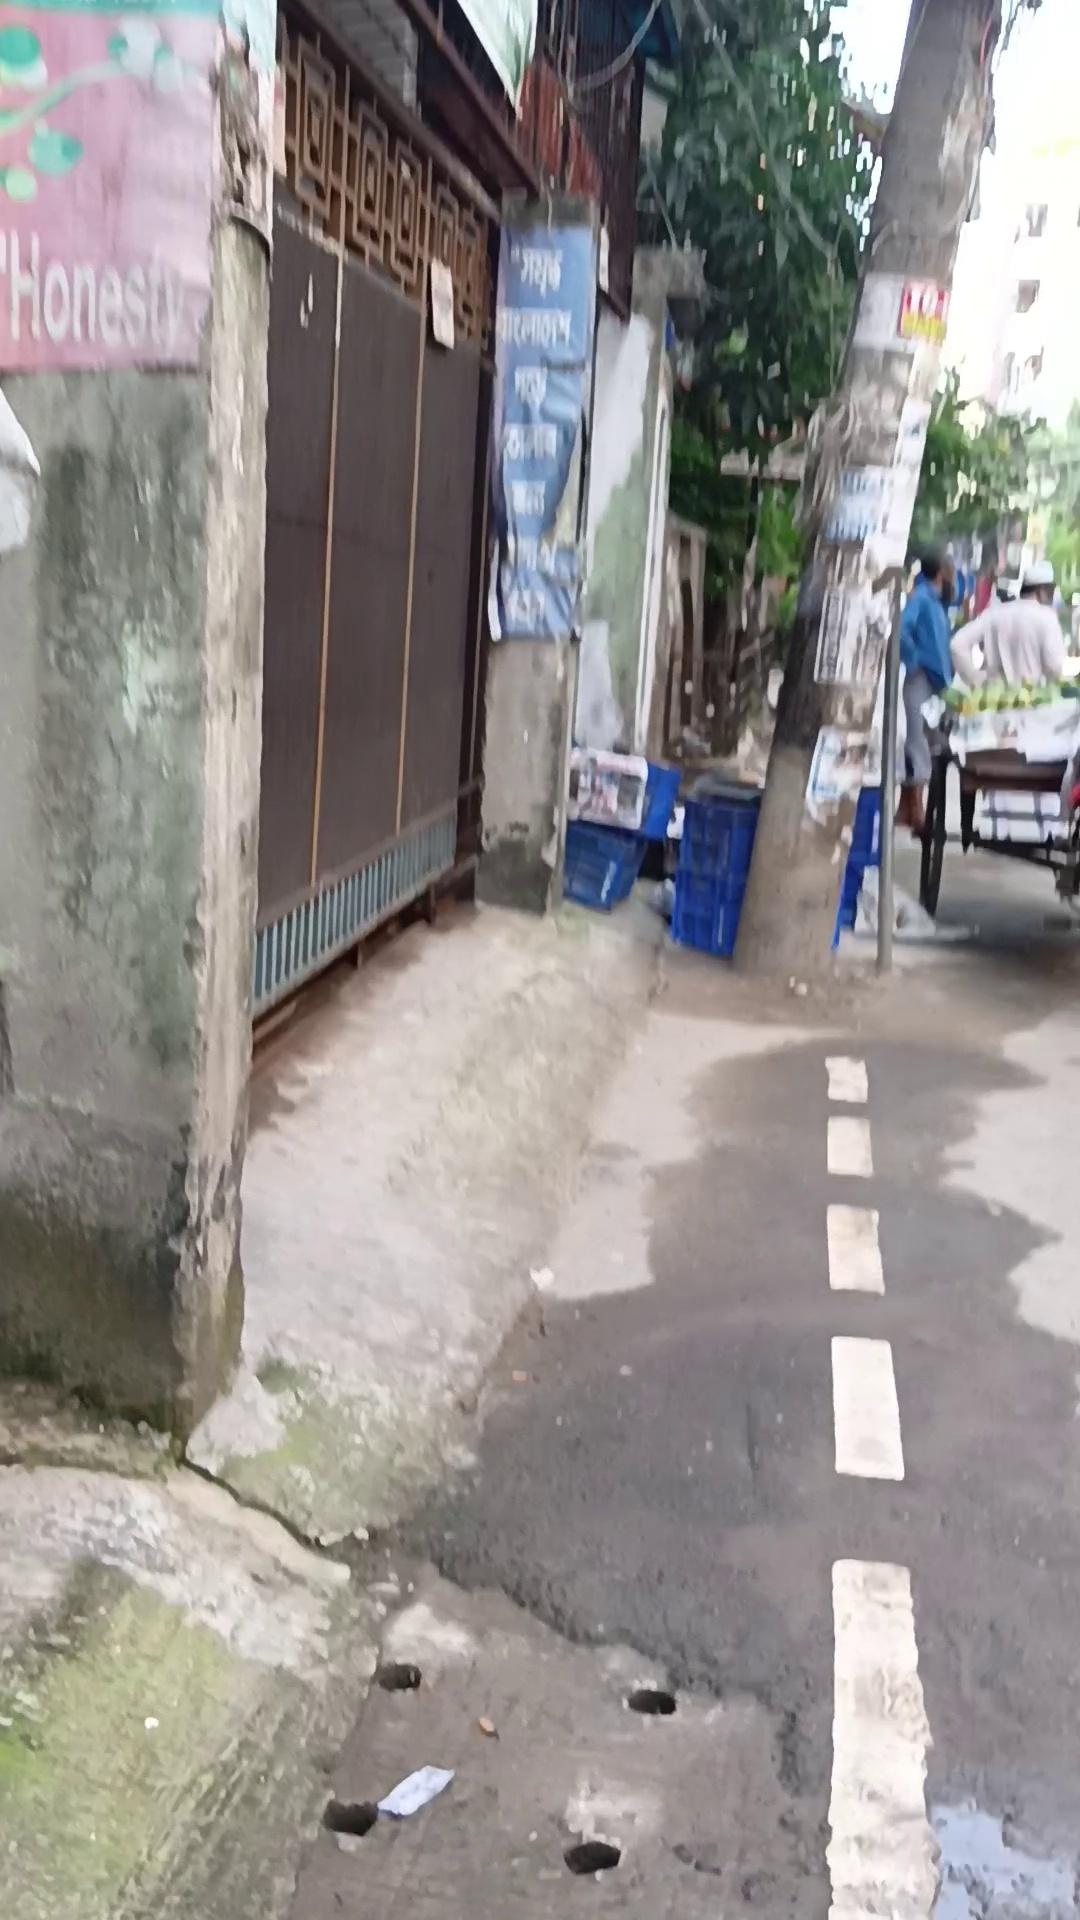Broken-road: (248, 796, 473, 1042)
Cat: (558, 744, 680, 913), (669, 773, 764, 957), (559, 815, 647, 913)
Curb: (894, 549, 956, 837)
Dog: (727, 0, 1004, 980), (171, 4, 280, 1452)
Fence: (913, 683, 1077, 924)
Garbage: (236, 836, 1076, 1916)
Light-pole: (630, 0, 878, 766)
Obstacle: (1, 4, 269, 1451)
